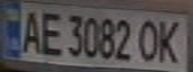0: (81, 12, 100, 60)
2: (115, 15, 136, 62)
3: (63, 9, 84, 58)
8: (100, 14, 118, 61)
A: (18, 6, 45, 55)
E: (36, 7, 63, 56)
K: (154, 16, 187, 64)
O: (136, 16, 163, 63)
